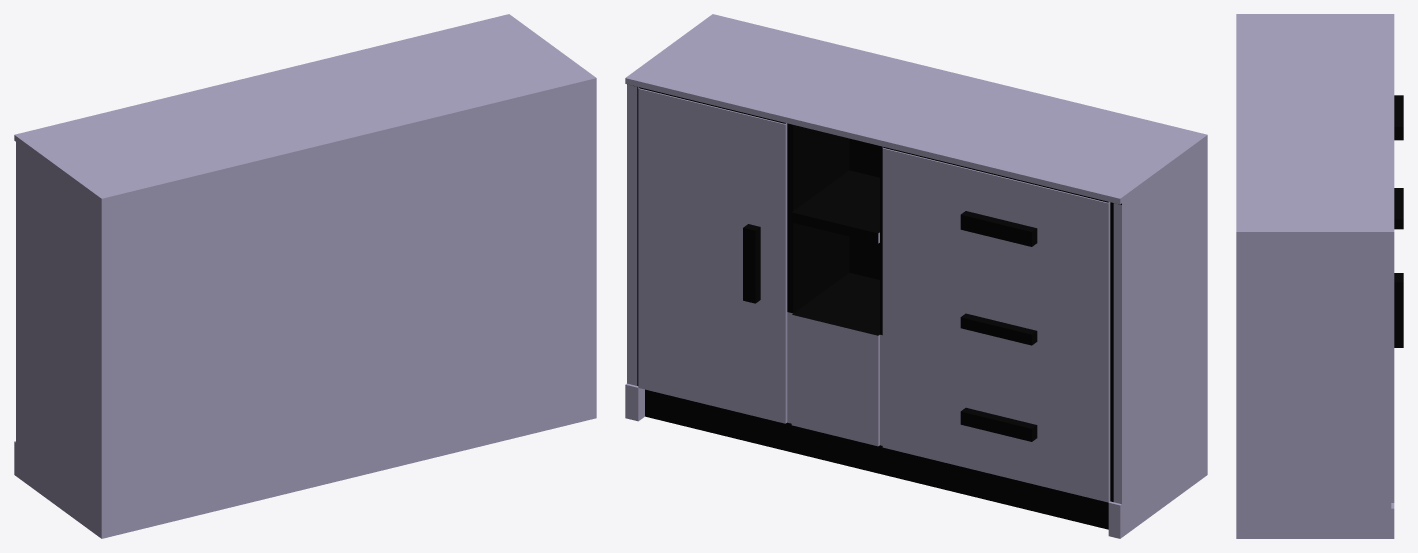
The model's file is KommodeKinderzimmer.fbx.
3 views of the same model, side by side, from view 1: azimuth 30°, elevation 25°; view 2: azimuth 150°, elevation 25°; view 3: azimuth 270°, elevation 25° (orthographic). The views are drawn at different scales.
Visible parts, largest first — view 1: Cube.001; view 2: Cube.001; view 3: Cube.001.
Part boxes in pixels (left/top/right/bottom): Cube.001: left=14, top=14, right=596, bottom=538; Cube.001: left=625, top=14, right=1207, bottom=538; Cube.001: left=1236, top=14, right=1403, bottom=538.
Size of the model in its own units: 191 by 126 by 62.11.
